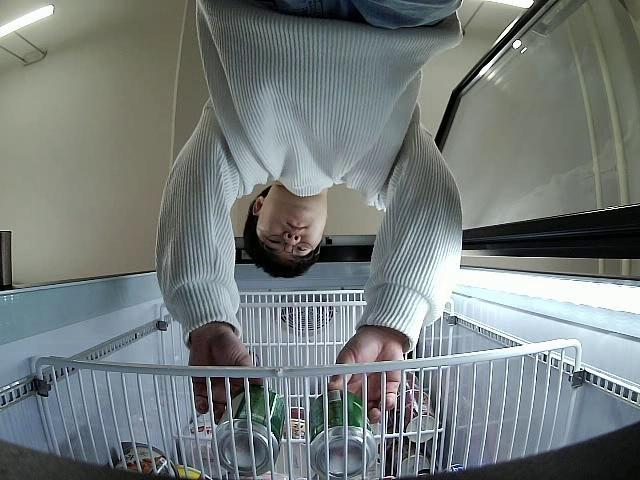12_chilsungCider: (210, 386, 287, 476), (306, 390, 376, 476)
